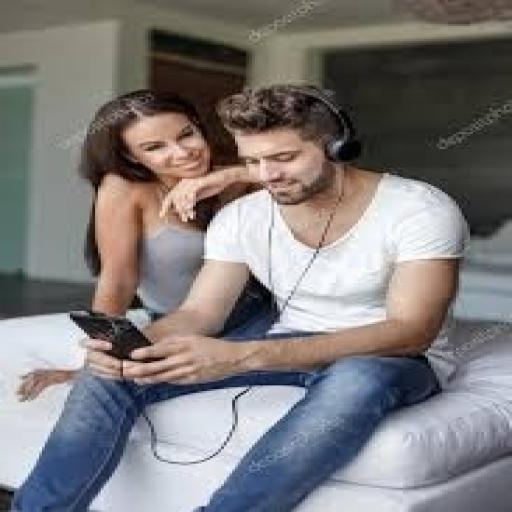listening_to_music: (6, 80, 472, 510)
